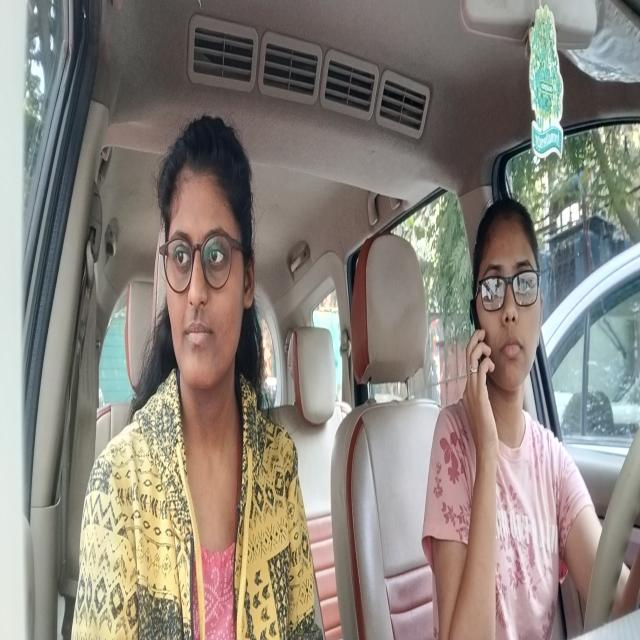mobile: (467, 292, 495, 407)
person: (158, 106, 255, 406), (470, 198, 543, 410)
